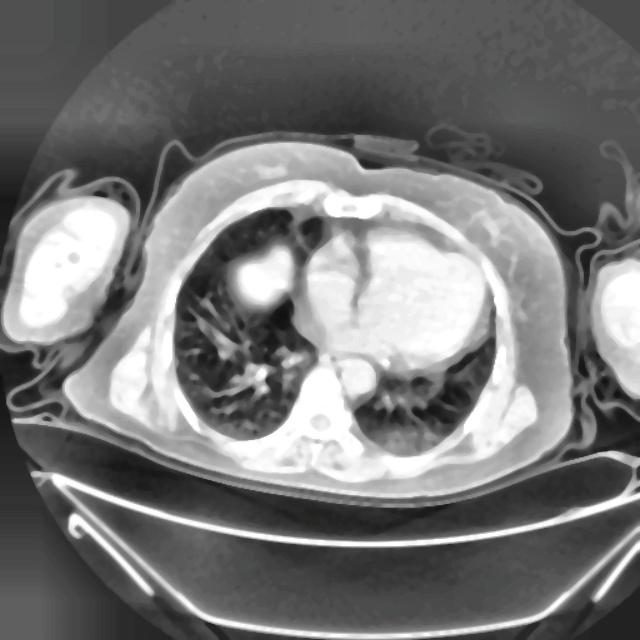covid: (62, 134, 575, 506)
